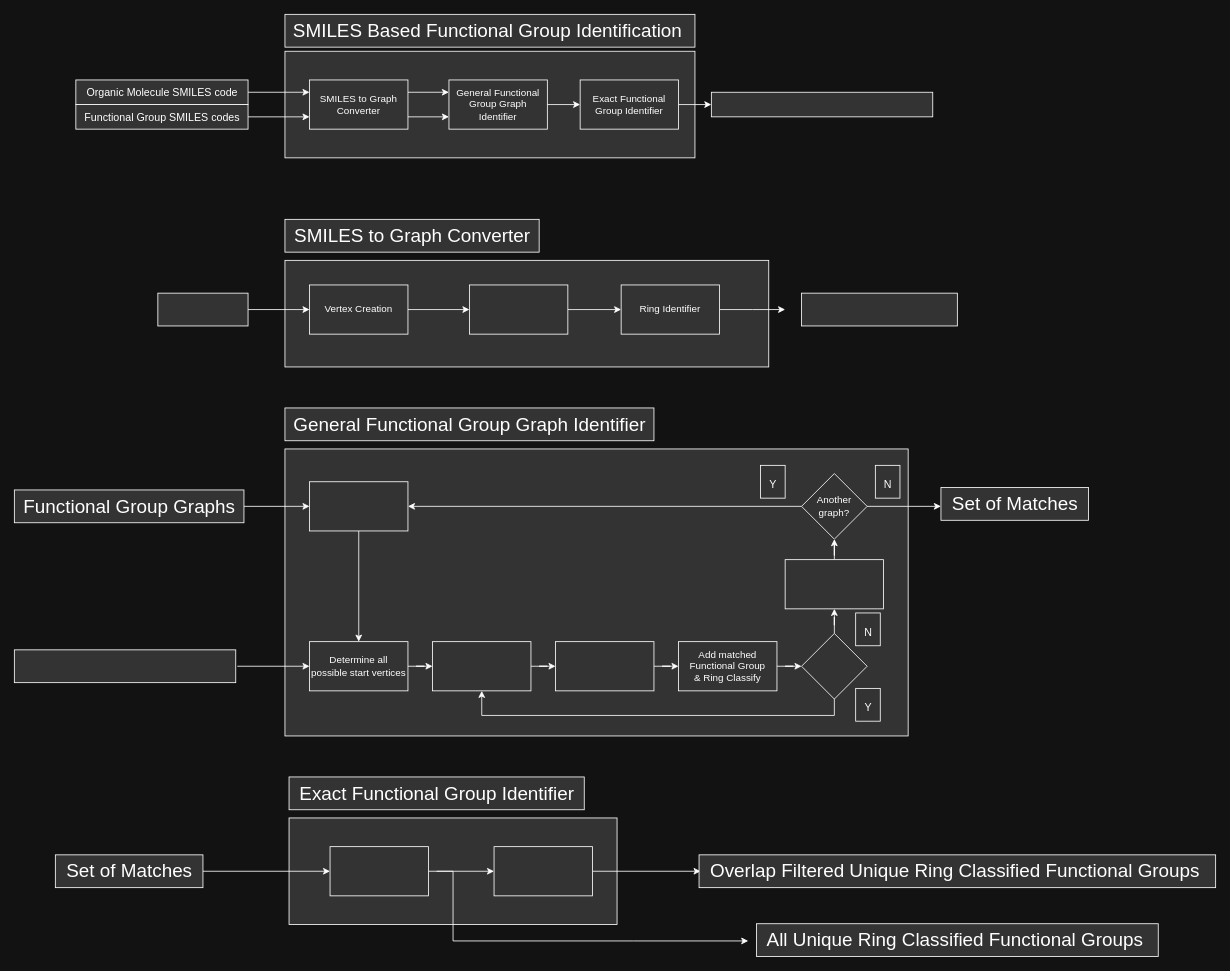
The diagram is 1230 pixels wide and 971 high, and some of its shapes have lost their labels. The centre of each missing label's shape, as x and y in pixels:
Another pair?: the point at 834,666
Choose a pair of start vertices: the point at 481,666
DFS: the point at 604,666
Edge Creation: the point at 518,309
Hierarchical Evaluation: the point at 378,871
Molecular Graph: the point at 879,309
Organic Molecule Graph: the point at 125,666
Overlap Filter: the point at 542,871
Remove repeat matches: the point at 834,584
Select Graph: the point at 358,506
SMILES: the point at 202,309
Unique Ring Classified Functional Groups: the point at 822,104
